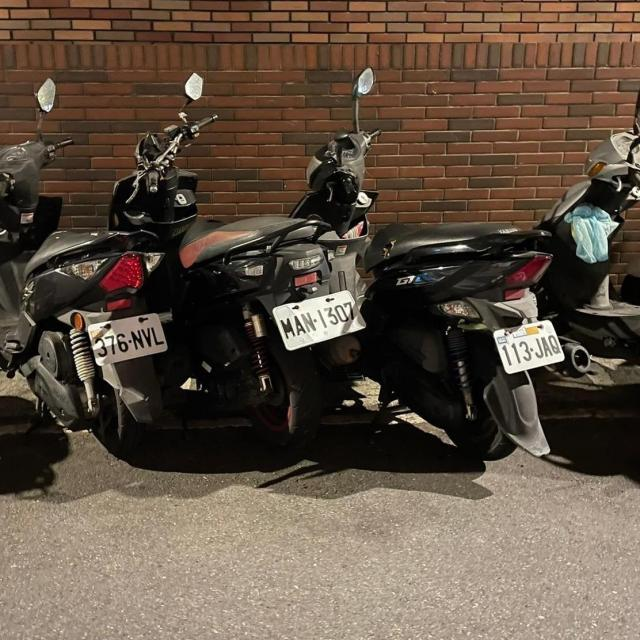W: (269, 286, 369, 354), (84, 309, 172, 366), (490, 316, 571, 377)
